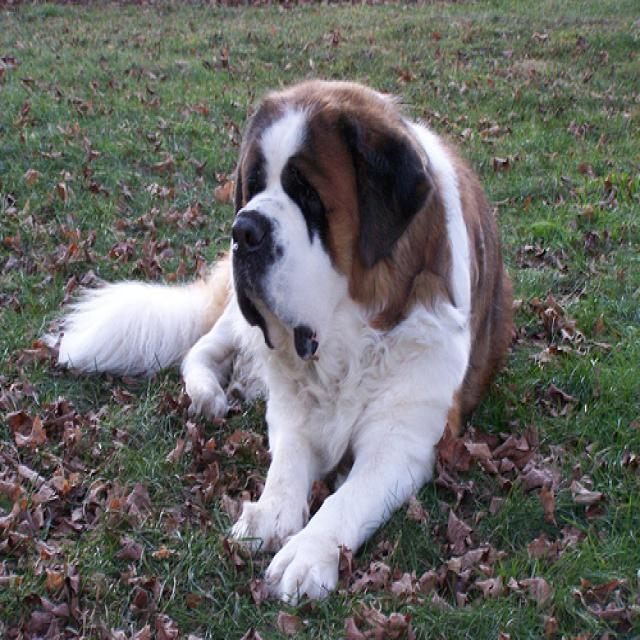dog-saint_bernard: (46, 68, 520, 618)
